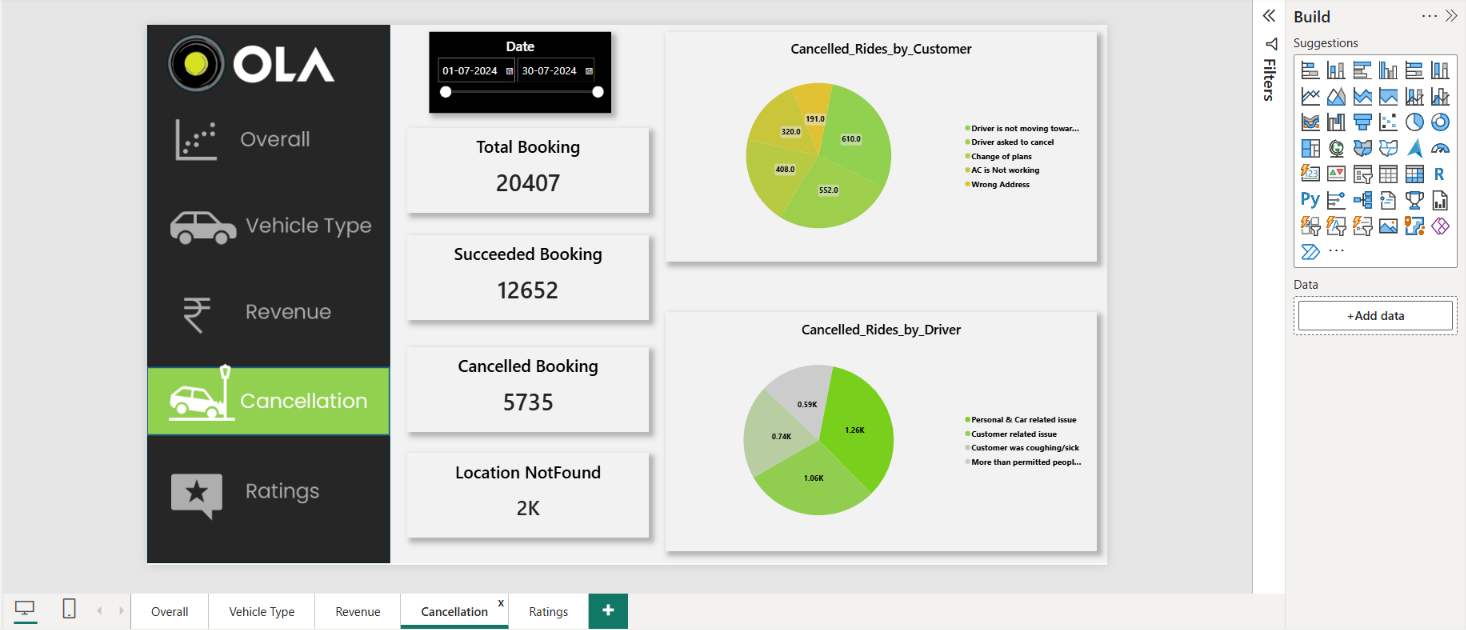

The dashboard page shown, as its layout file describes it:
{"tool":"powerbi","page":{"name":"Cancellation","canvas":[1920,1080],"ordinal":3},"visuals":[{"type":"actionButton","box":[0,872.3,483.2,133.9],"z":0},{"type":"actionButton","box":[0,340.2,483.2,133.9],"z":1000},{"type":"actionButton","box":[0,506.7,483.2,133.9],"z":2000},{"type":"actionButton","box":[0,170.1,483.2,133.9],"z":3000},{"type":"pieChart","title":"Cancelled_Rides_by_Customer","fields":{"Category":["Bookings.Canceled_Rides_by_Customer"],"Y":["CountNonNull(Bookings.Canceled_Rides_by_Customer)"]},"box":[1036,14,864,460],"z":4000},{"type":"pieChart","title":"Cancelled_Rides_by_Driver","fields":{"Category":["Bookings.Canceled_Rides_by_Driver"],"Y":["CountNonNull(Bookings.Canceled_Rides_by_Driver)"]},"box":[1036,574,864,478],"z":5000},{"type":"slicer","title":"Date","fields":{"Values":["Bookings.Date"]},"box":[564,14,364,162],"z":6000},{"type":"cardVisual","title":"Total Booking","fields":{"Data":["Count(Bookings.Booking_ID)"]},"box":[520,206,484,170],"z":7000},{"type":"cardVisual","title":"Succeeded Booking","fields":{"Data":["Count(Bookings.Booking_ID)"]},"box":[520,420,484,170],"z":8000},{"type":"cardVisual","title":"Cancelled Booking","fields":{"Data":["Count(Bookings.Booking_ID)"]},"box":[520,644,484,170],"z":9000},{"type":"cardVisual","title":"Location NotFound","fields":{"Data":["Count(Bookings.Booking_ID)"]},"box":[520,856,484,170],"z":10000}]}

Visuals, with their boxes on the page's 1920x1080 design canvas (x1, y1, x2, y2). These are canvas units, not pixel positions in the 1466x630 screenshot, which may show the page scaled, cropped or inside an application window:
actionButton: bbox=[0, 872, 483, 1006]
actionButton: bbox=[0, 340, 483, 474]
actionButton: bbox=[0, 507, 483, 641]
actionButton: bbox=[0, 170, 483, 304]
"Cancelled_Rides_by_Customer" pieChart: bbox=[1036, 14, 1900, 474]
"Cancelled_Rides_by_Driver" pieChart: bbox=[1036, 574, 1900, 1052]
"Date" slicer: bbox=[564, 14, 928, 176]
"Total Booking" cardVisual: bbox=[520, 206, 1004, 376]
"Succeeded Booking" cardVisual: bbox=[520, 420, 1004, 590]
"Cancelled Booking" cardVisual: bbox=[520, 644, 1004, 814]
"Location NotFound" cardVisual: bbox=[520, 856, 1004, 1026]
